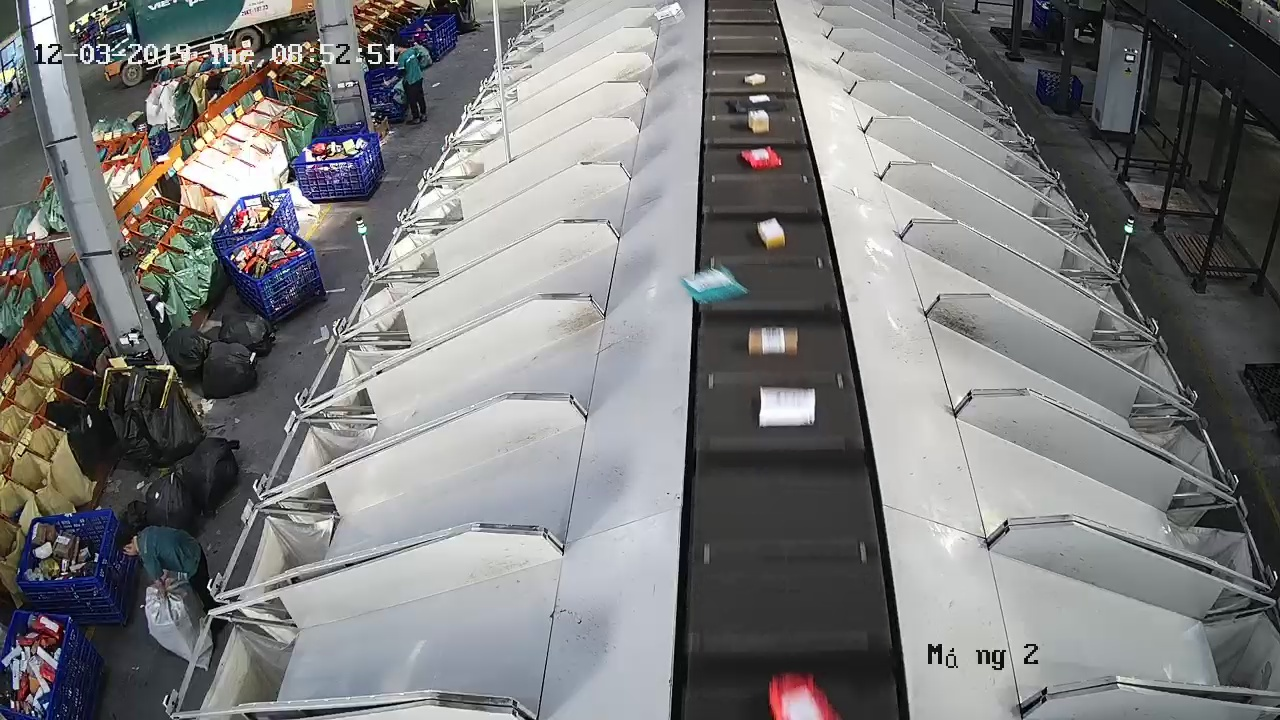parcel: (678, 263, 750, 306)
